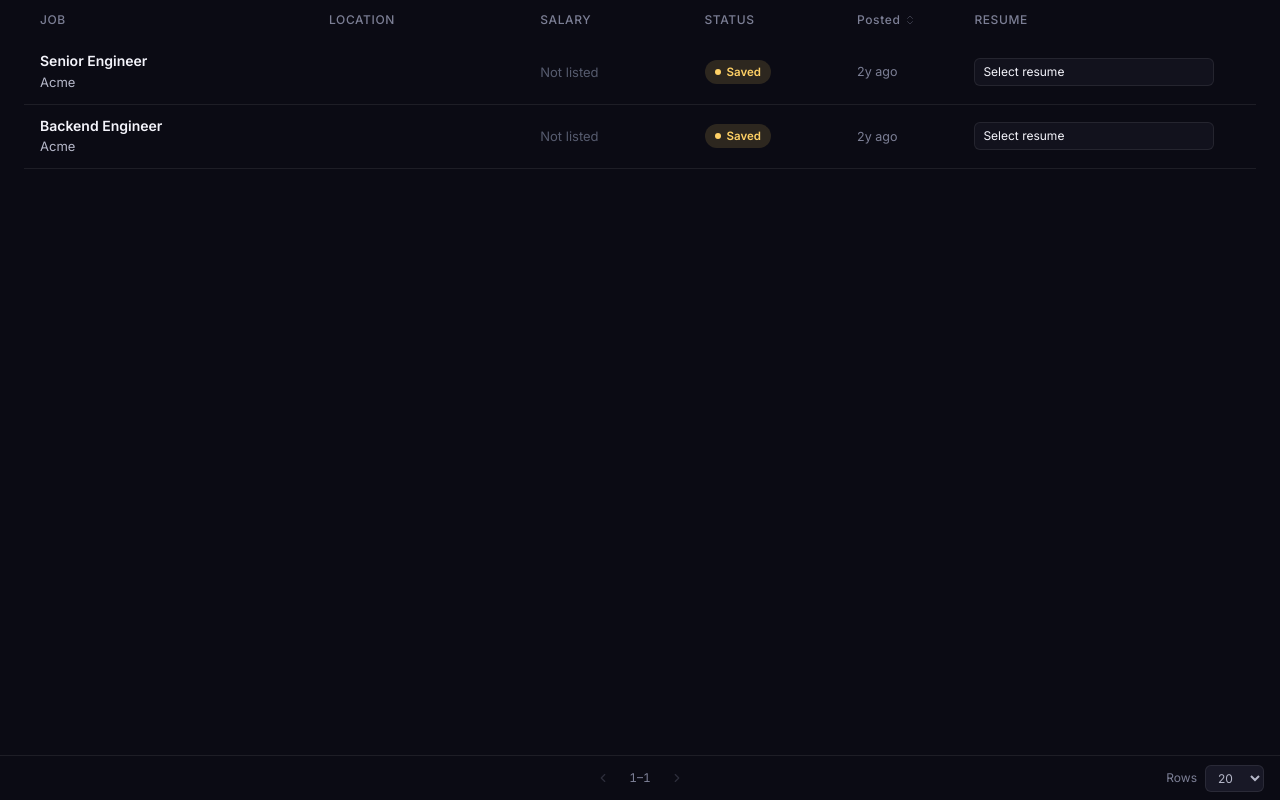
Test: ApplyQueueTable › resume-picker dialog wiring › renders only one dialog instance regardless of row count
This screenshot has width=1280, height=800.
Click the button "Select resume" in the row of "Senior Engineer": (1094, 72) [974,58,1214,86]
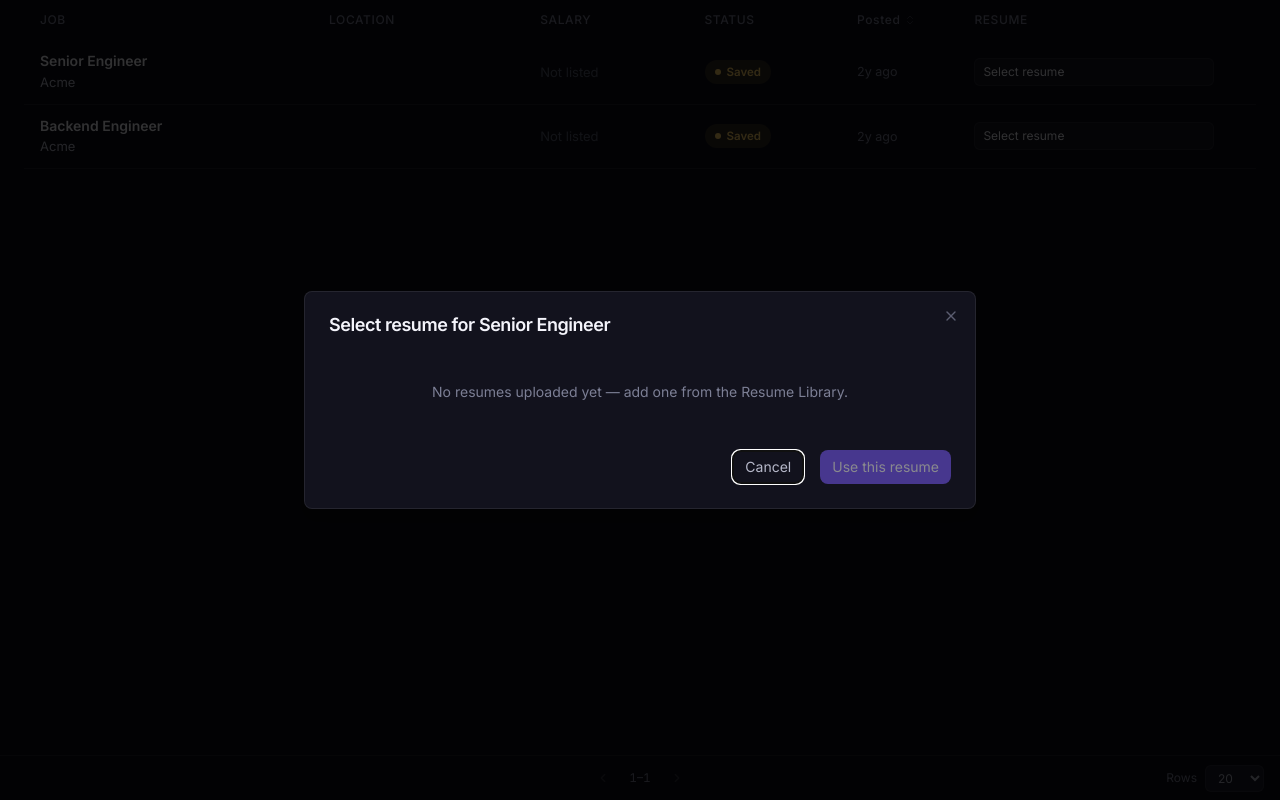
expect the number of dialogs is 1: met, box [304,291,976,509]
